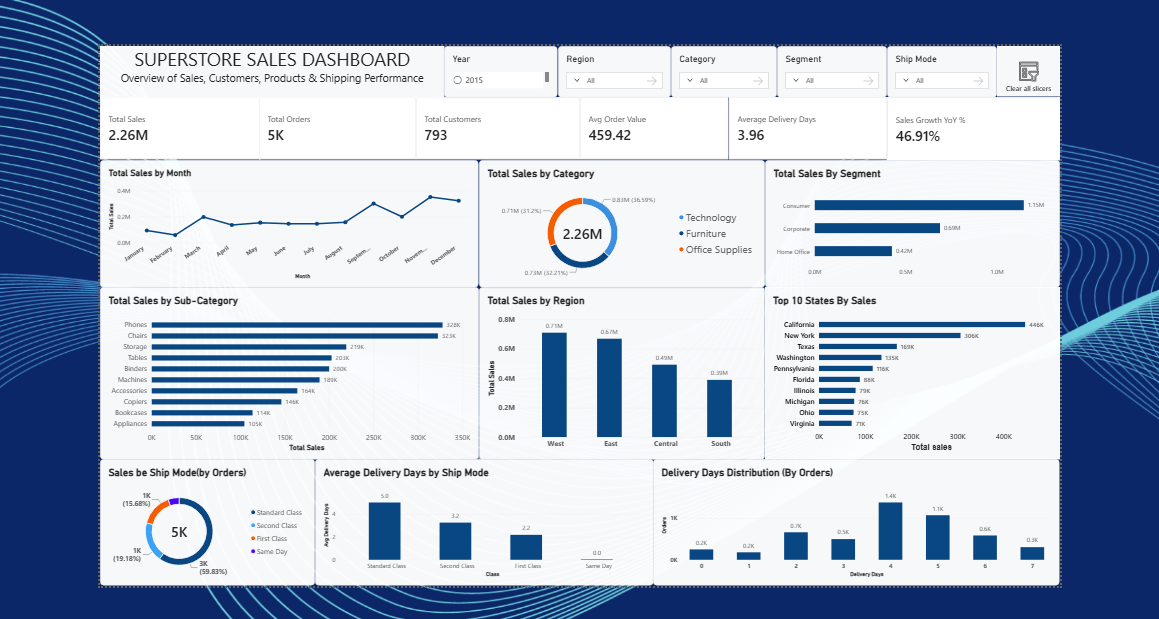

Layout of this report page (visuals, bound fields, positions):
{"tool":"powerbi","page":{"name":"Page 1","canvas":[1920,1080],"ordinal":0},"visuals":[{"type":"cardVisual","fields":{"Data":["sales.Total Sales"]},"box":[0,102.5,321.3,124.7],"z":0},{"type":"cardVisual","fields":{"Data":["sales.Total Orders"]},"box":[317.8,102.5,314.4,124.7],"z":1000},{"type":"cardVisual","fields":{"Data":["sales.Total Customers"]},"box":[632.3,102.5,328.1,124.7],"z":2000},{"type":"cardVisual","fields":{"Data":["sales.Avg Order Value"]},"box":[960.4,102.5,297.3,124.7],"z":3000},{"type":"columnChart","fields":{"Category":["sales.Region"],"Y":["sales.Total Sales","select"]},"box":[757,481.9,572.5,345.2],"z":5000},{"type":"barChart","fields":{"Category":["sales.Sub-Category"],"Y":["sales.Total Sales"]},"box":[0,481.9,757.6,345.1],"z":6000},{"type":"barChart","title":"Total Sales By Segment","fields":{"Category":["sales.Segment"],"Y":["sales.Total Sales"]},"box":[1329.5,227.3,589.6,254.6],"z":7000},{"type":"barChart","title":"Top 10 States By Sales","fields":{"Category":["sales.State"],"Y":["sales.Total Sales"]},"box":[1329.5,481.9,591.3,345.2],"z":8000},{"type":"textSlicer","fields":{"Values":["sales.Region"]},"box":[916,0,225.6,102.5],"z":9000},{"type":"textSlicer","fields":{"Values":["sales.Category"]},"box":[1141.5,0,211.9,102.5],"z":10000},{"type":"textSlicer","fields":{"Values":["sales.Segment"]},"box":[1353.4,0,220.4,102.5],"z":11000},{"type":"textbox","box":[0,0,688.7,102.5],"z":12000},{"type":"listSlicer","fields":{"Values":["sales.Order Date.Variation.Date Hierarchy.Year"]},"box":[688.7,0,227.3,102.5],"z":13000},{"type":"textSlicer","fields":{"Values":["sales.Ship Mode"]},"box":[1573.9,0,220.4,102.5],"z":14000},{"type":"cardVisual","fields":{"Data":["sales.Average Delivery Days"]},"box":[1257.7,102.5,316.1,124.7],"z":15000},{"type":"cardVisual","fields":{"Data":["sales.Sales Growth YoY %"]},"box":[1573,102.2,347,127.2],"z":16000},{"type":"donutChart","fields":{"Category":["sales.Category"],"Y":["sales.Total Sales"]},"box":[757,227.3,572.5,254.6],"z":17000},{"type":"donutChart","title":"Sales be Ship Mode(by Orders)","fields":{"Category":["sales.Ship Mode"],"Y":["sales.Orders"]},"box":[0,827,429.9,252.5],"z":18000},{"type":"columnChart","fields":{"Category":["sales.Ship Mode"],"Y":["sales.Average Delivery Days"]},"box":[429.9,827,676.6,252.5],"z":19000},{"type":"columnChart","title":"Delivery Days Distribution (By Orders)","fields":{"Category":["sales.Delivery Days"],"Y":["sales.Orders"]},"box":[1106.5,827,813.5,252.5],"z":20000},{"type":"actionButton","box":[1794.3,0,126.5,100.8],"z":21000},{"type":"lineChart","fields":{"Category":["sales.Order Month/Year.Variation.Date Hierarchy.Month"],"Y":["sales.Total Sales"]},"box":[0,227.3,757,254.6],"z":21001}]}

Visuals, with their boxes on the page's 1920x1080 design canvas (x1, y1, x2, y2). These are canvas units, not pixel positions in the 1159x619 screenshot, which may show the page scaled, cropped or inside an application window:
cardVisual - sales.Total Sales: crop(0, 102, 321, 227)
cardVisual - sales.Total Orders: crop(318, 102, 632, 227)
cardVisual - sales.Total Customers: crop(632, 102, 960, 227)
cardVisual - sales.Avg Order Value: crop(960, 102, 1258, 227)
columnChart - sales.Region x sales.Total Sales: crop(757, 482, 1330, 827)
barChart - sales.Sub-Category x sales.Total Sales: crop(0, 482, 758, 827)
"Total Sales By Segment" barChart: crop(1330, 227, 1919, 482)
"Top 10 States By Sales" barChart: crop(1330, 482, 1921, 827)
textSlicer - sales.Region: crop(916, 0, 1142, 102)
textSlicer - sales.Category: crop(1142, 0, 1353, 102)
textSlicer - sales.Segment: crop(1353, 0, 1574, 102)
textbox: crop(0, 0, 689, 102)
listSlicer - sales.Order Date.Variation.Date Hierarchy.Year: crop(689, 0, 916, 102)
textSlicer - sales.Ship Mode: crop(1574, 0, 1794, 102)
cardVisual - sales.Average Delivery Days: crop(1258, 102, 1574, 227)
cardVisual - sales.Sales Growth YoY %: crop(1573, 102, 1920, 229)
donutChart - sales.Category x sales.Total Sales: crop(757, 227, 1330, 482)
"Sales be Ship Mode(by Orders)" donutChart: crop(0, 827, 430, 1080)
columnChart - sales.Ship Mode x sales.Average Delivery Days: crop(430, 827, 1106, 1080)
"Delivery Days Distribution (By Orders)" columnChart: crop(1106, 827, 1920, 1080)
actionButton: crop(1794, 0, 1921, 101)
lineChart - sales.Order Month/Year.Variation.Date Hierarchy.Month x sales.Total Sales: crop(0, 227, 757, 482)
